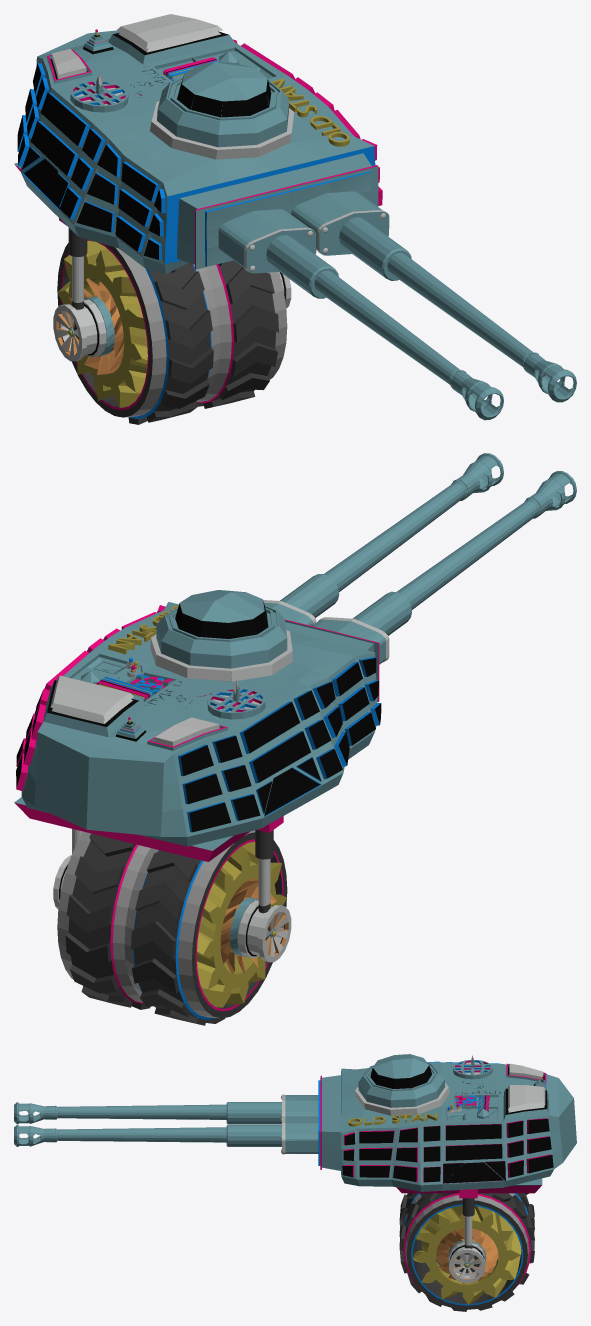
Rendered from Mecha.fbx.
The picture shows the model from 3 angles, top to bottom: view 1: azimuth 30°, elevation 25°; view 2: azimuth 150°, elevation 25°; view 3: azimuth 270°, elevation 25°; orthographic projection. The views are drawn at different scales.
Parts seen in each view (by area): view 1: Torreta, Rueda, CañónFinal, Gear.002, CañónMedio, Circle, Worm Gear, Cylinder.001, Cylinder; view 2: Torreta, Rueda, CañónFinal, Gear.002, CañónMedio, Circle, Plataforma, Worm Gear, Cylinder.001; view 3: Torreta, Rueda, CañónFinal, Gear.002, CañónMedio, Worm Gear, Circle, Plataforma, Cylinder.001.
Part boxes in pixels (x1,y1,x2,y2): Torreta: [17, 14, 389, 274]; Rueda: [57, 239, 287, 424]; CañónFinal: [314, 252, 576, 420]; Gear.002: [57, 240, 281, 407]; CañónMedio: [266, 217, 411, 298]; Circle: [53, 272, 291, 361]; Worm Gear: [68, 278, 124, 374]; Cylinder.001: [68, 228, 87, 309]; Cylinder: [84, 296, 115, 356]; Torreta: [16, 590, 389, 846]; Rueda: [57, 830, 287, 1025]; CañónFinal: [324, 453, 576, 609]; Gear.002: [63, 841, 286, 1007]; CañónMedio: [280, 574, 411, 635]; Circle: [53, 855, 291, 962]; Plataforma: [14, 797, 283, 861]; Worm Gear: [220, 878, 276, 975]; Cylinder.001: [72, 829, 273, 913]; Torreta: [281, 1054, 576, 1191]; Rueda: [399, 1193, 534, 1311]; CañónFinal: [14, 1102, 226, 1146]; Gear.002: [413, 1206, 521, 1304]; CañónMedio: [226, 1102, 281, 1146]; Worm Gear: [436, 1228, 498, 1283]; Circle: [449, 1242, 485, 1282]; Plataforma: [396, 1178, 542, 1198]; Cylinder.001: [462, 1198, 474, 1248].
Size of the model in its own units: 583 by 758 by 1631.
